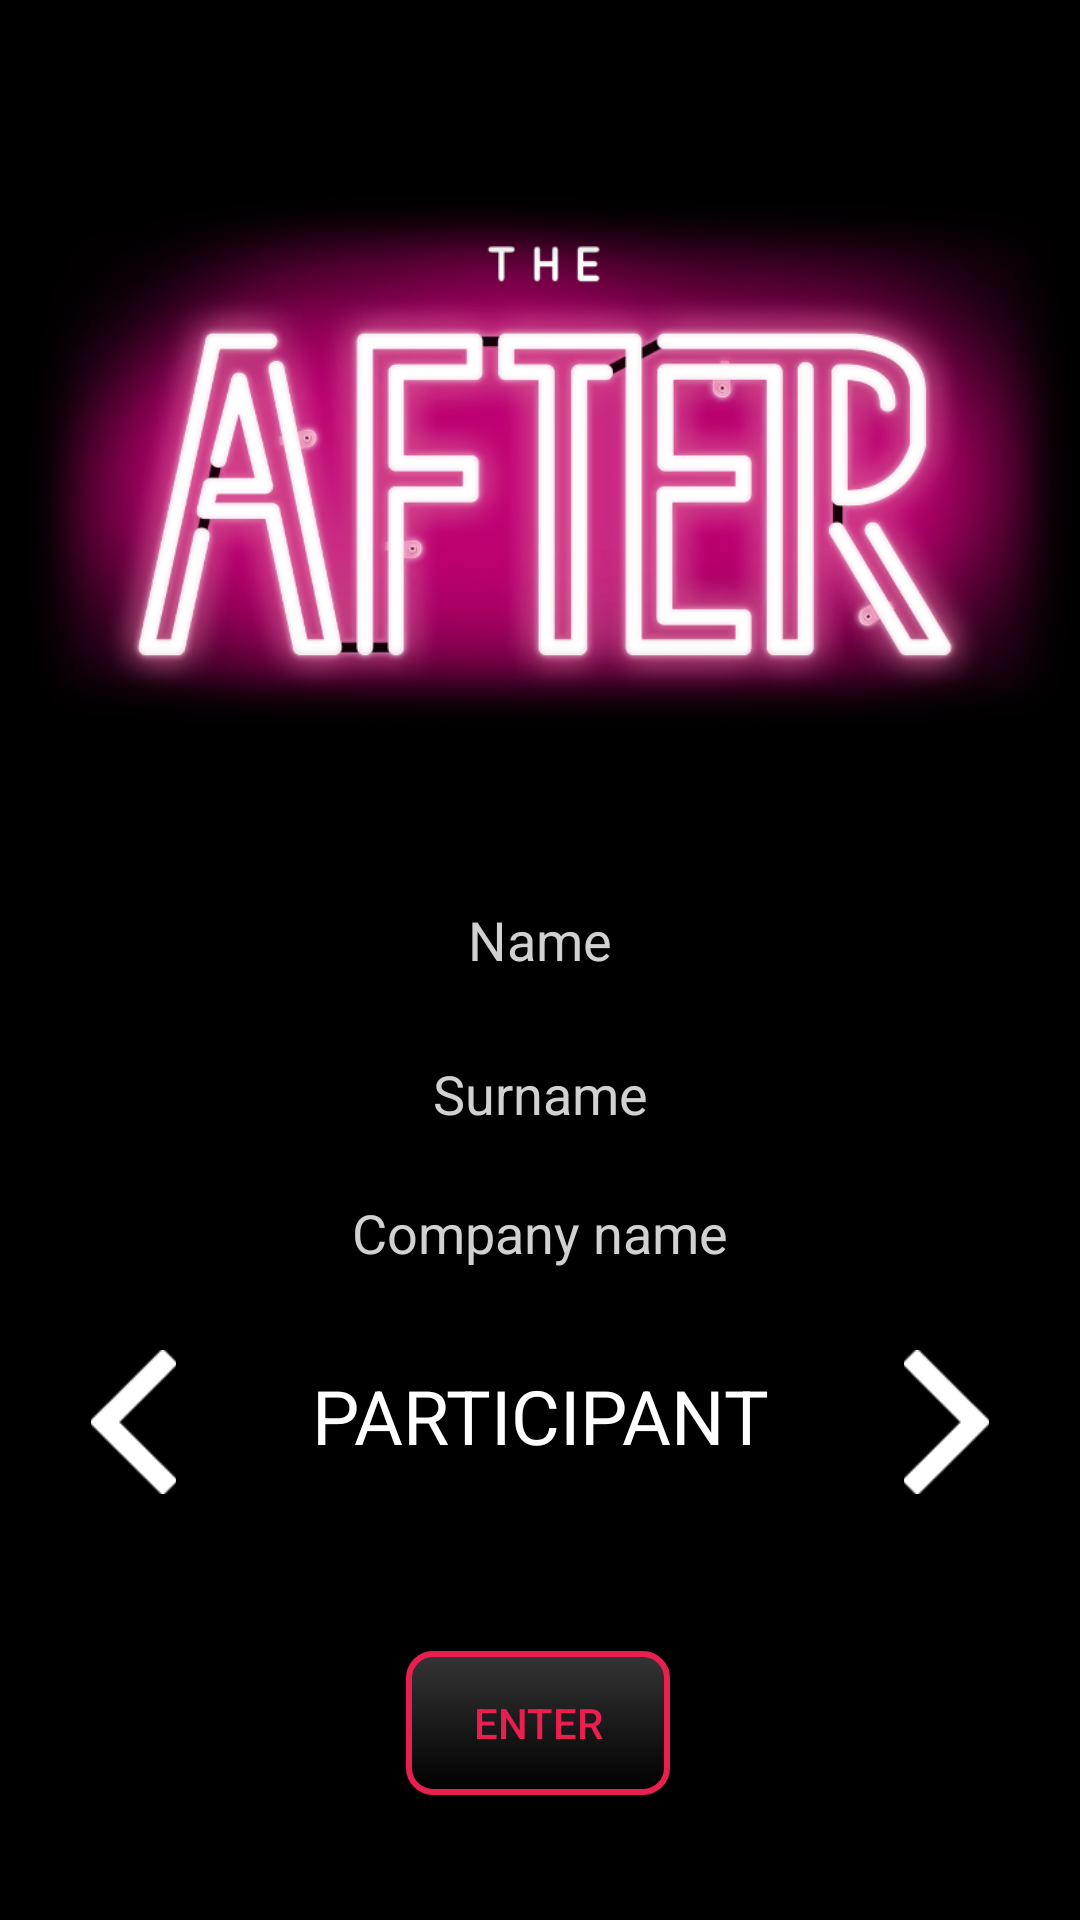

Icons on this 1080 × 1920 Android screen, each with the point to tap as point (x, y):
arrow left: point (133, 1422)
arrow right: point (946, 1422)
